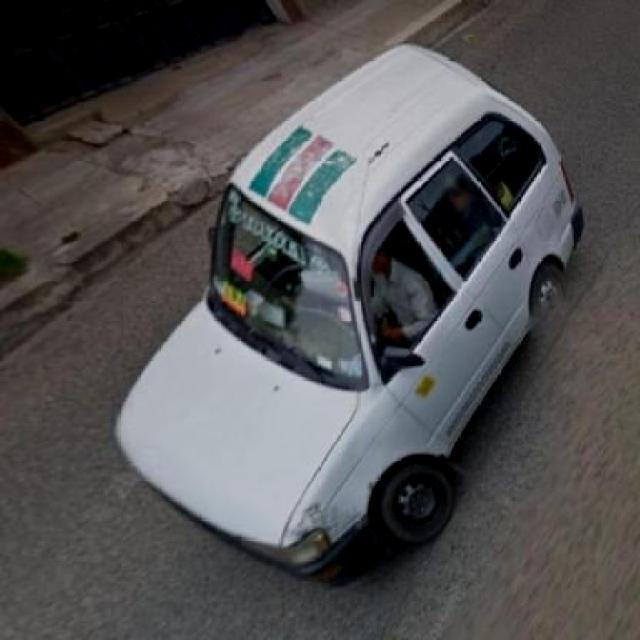car: (121, 52, 590, 583)
